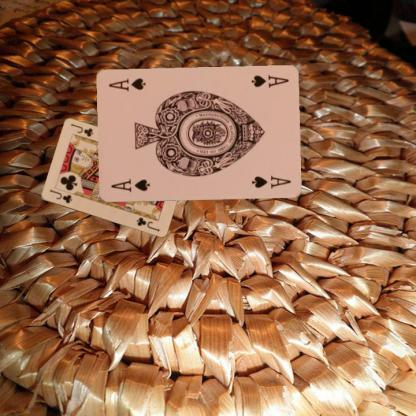As: (108, 176, 151, 193), (249, 72, 290, 89)
Jc: (47, 187, 73, 205)
